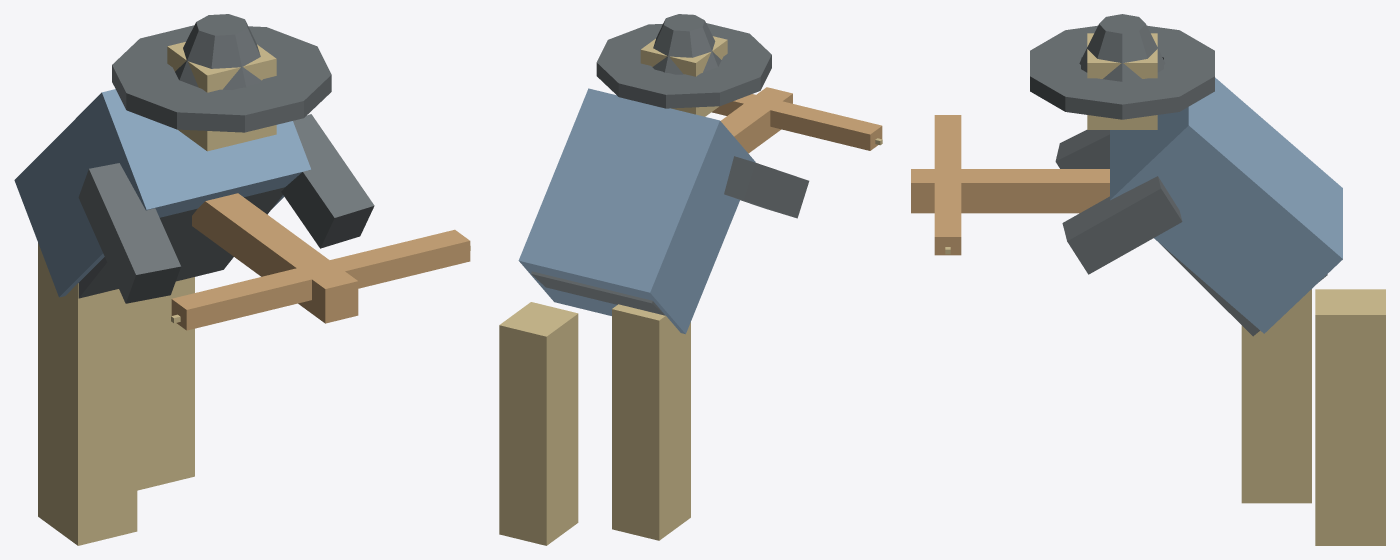
The model's file is defender-at-the-merlon.glb.
3 renders of one model, left to right at view 1: azimuth 30°, elevation 25°; view 2: azimuth 150°, elevation 25°; view 3: azimuth 270°, elevation 25°, orthographic. The views are drawn at different scales.
Visible parts, largest first — view 1: defender-at-merlon; view 2: defender-at-merlon; view 3: defender-at-merlon.
Boxes of the visible parts, left/top/right/bottom form: defender-at-merlon: left=14, top=14, right=470, bottom=545; defender-at-merlon: left=499, top=14, right=882, bottom=545; defender-at-merlon: left=911, top=14, right=1385, bottom=545.
Size of the model in its own units: 0.9 by 1.6 by 1.42.
